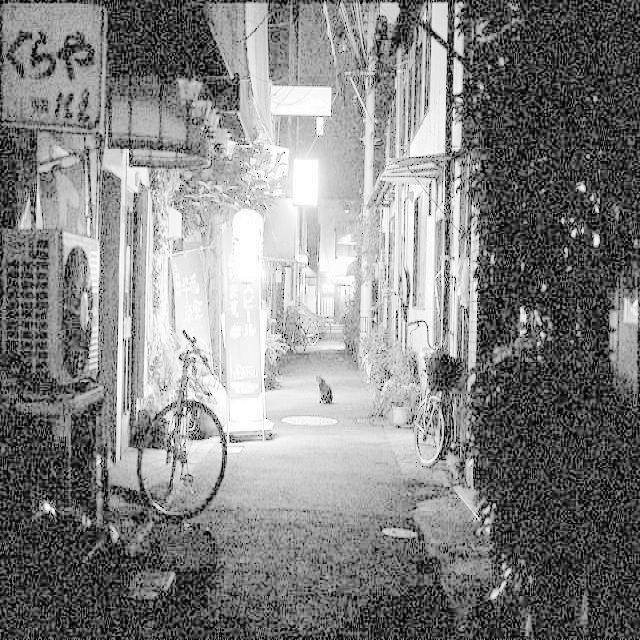Bicycle: (119, 346, 234, 542), (404, 305, 469, 489), (283, 308, 320, 360)
Cat: (315, 360, 338, 429)
